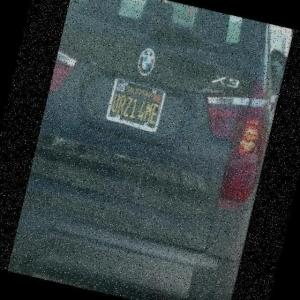Plate: (104, 80, 166, 132)
